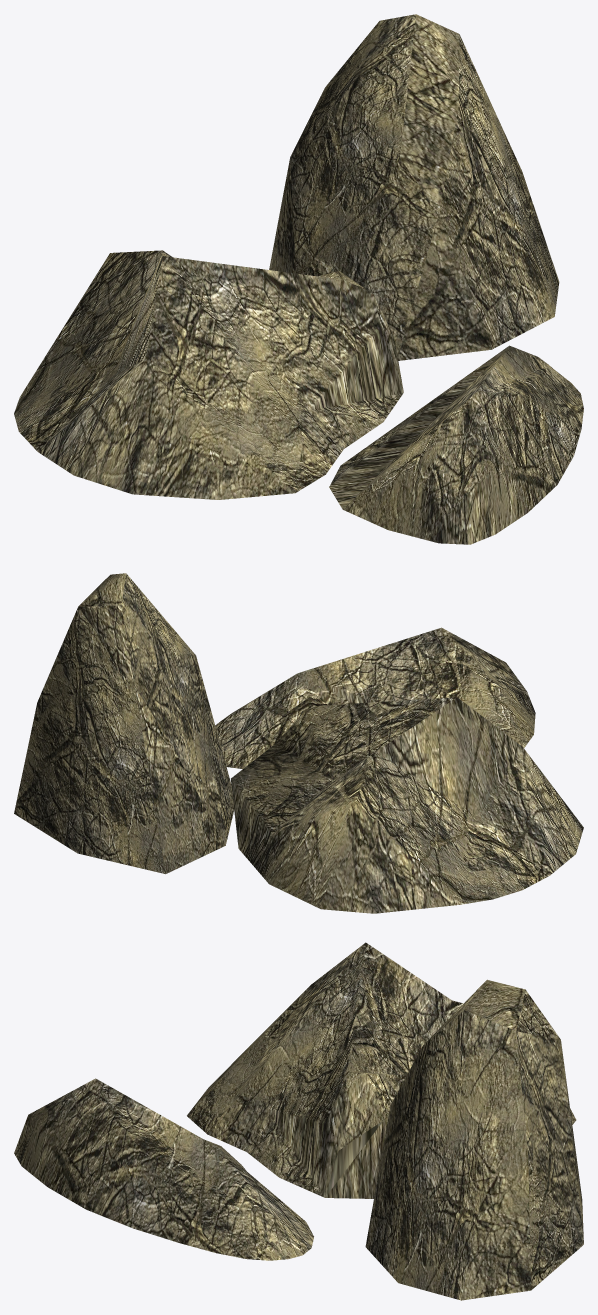
Rendered from stonemine_tropic_1.glb.
The picture shows the model from 3 angles, top to bottom: view 1: azimuth 30°, elevation 25°; view 2: azimuth 150°, elevation 25°; view 3: azimuth 270°, elevation 25°; orthographic projection. The views are drawn at different scales.
Visible parts, largest first — view 1: stonemine_tropic_1; view 2: stonemine_tropic_1; view 3: stonemine_tropic_1.
Part boxes in pixels (<box>): stonemine_tropic_1: <box>14,14,583,544</box>; stonemine_tropic_1: <box>14,573,583,913</box>; stonemine_tropic_1: <box>14,942,583,1300</box>.
Bounding box in the file's own units: 3.57 × 1.75 × 3.42.
Materials: 1 (1 with a texture image).
